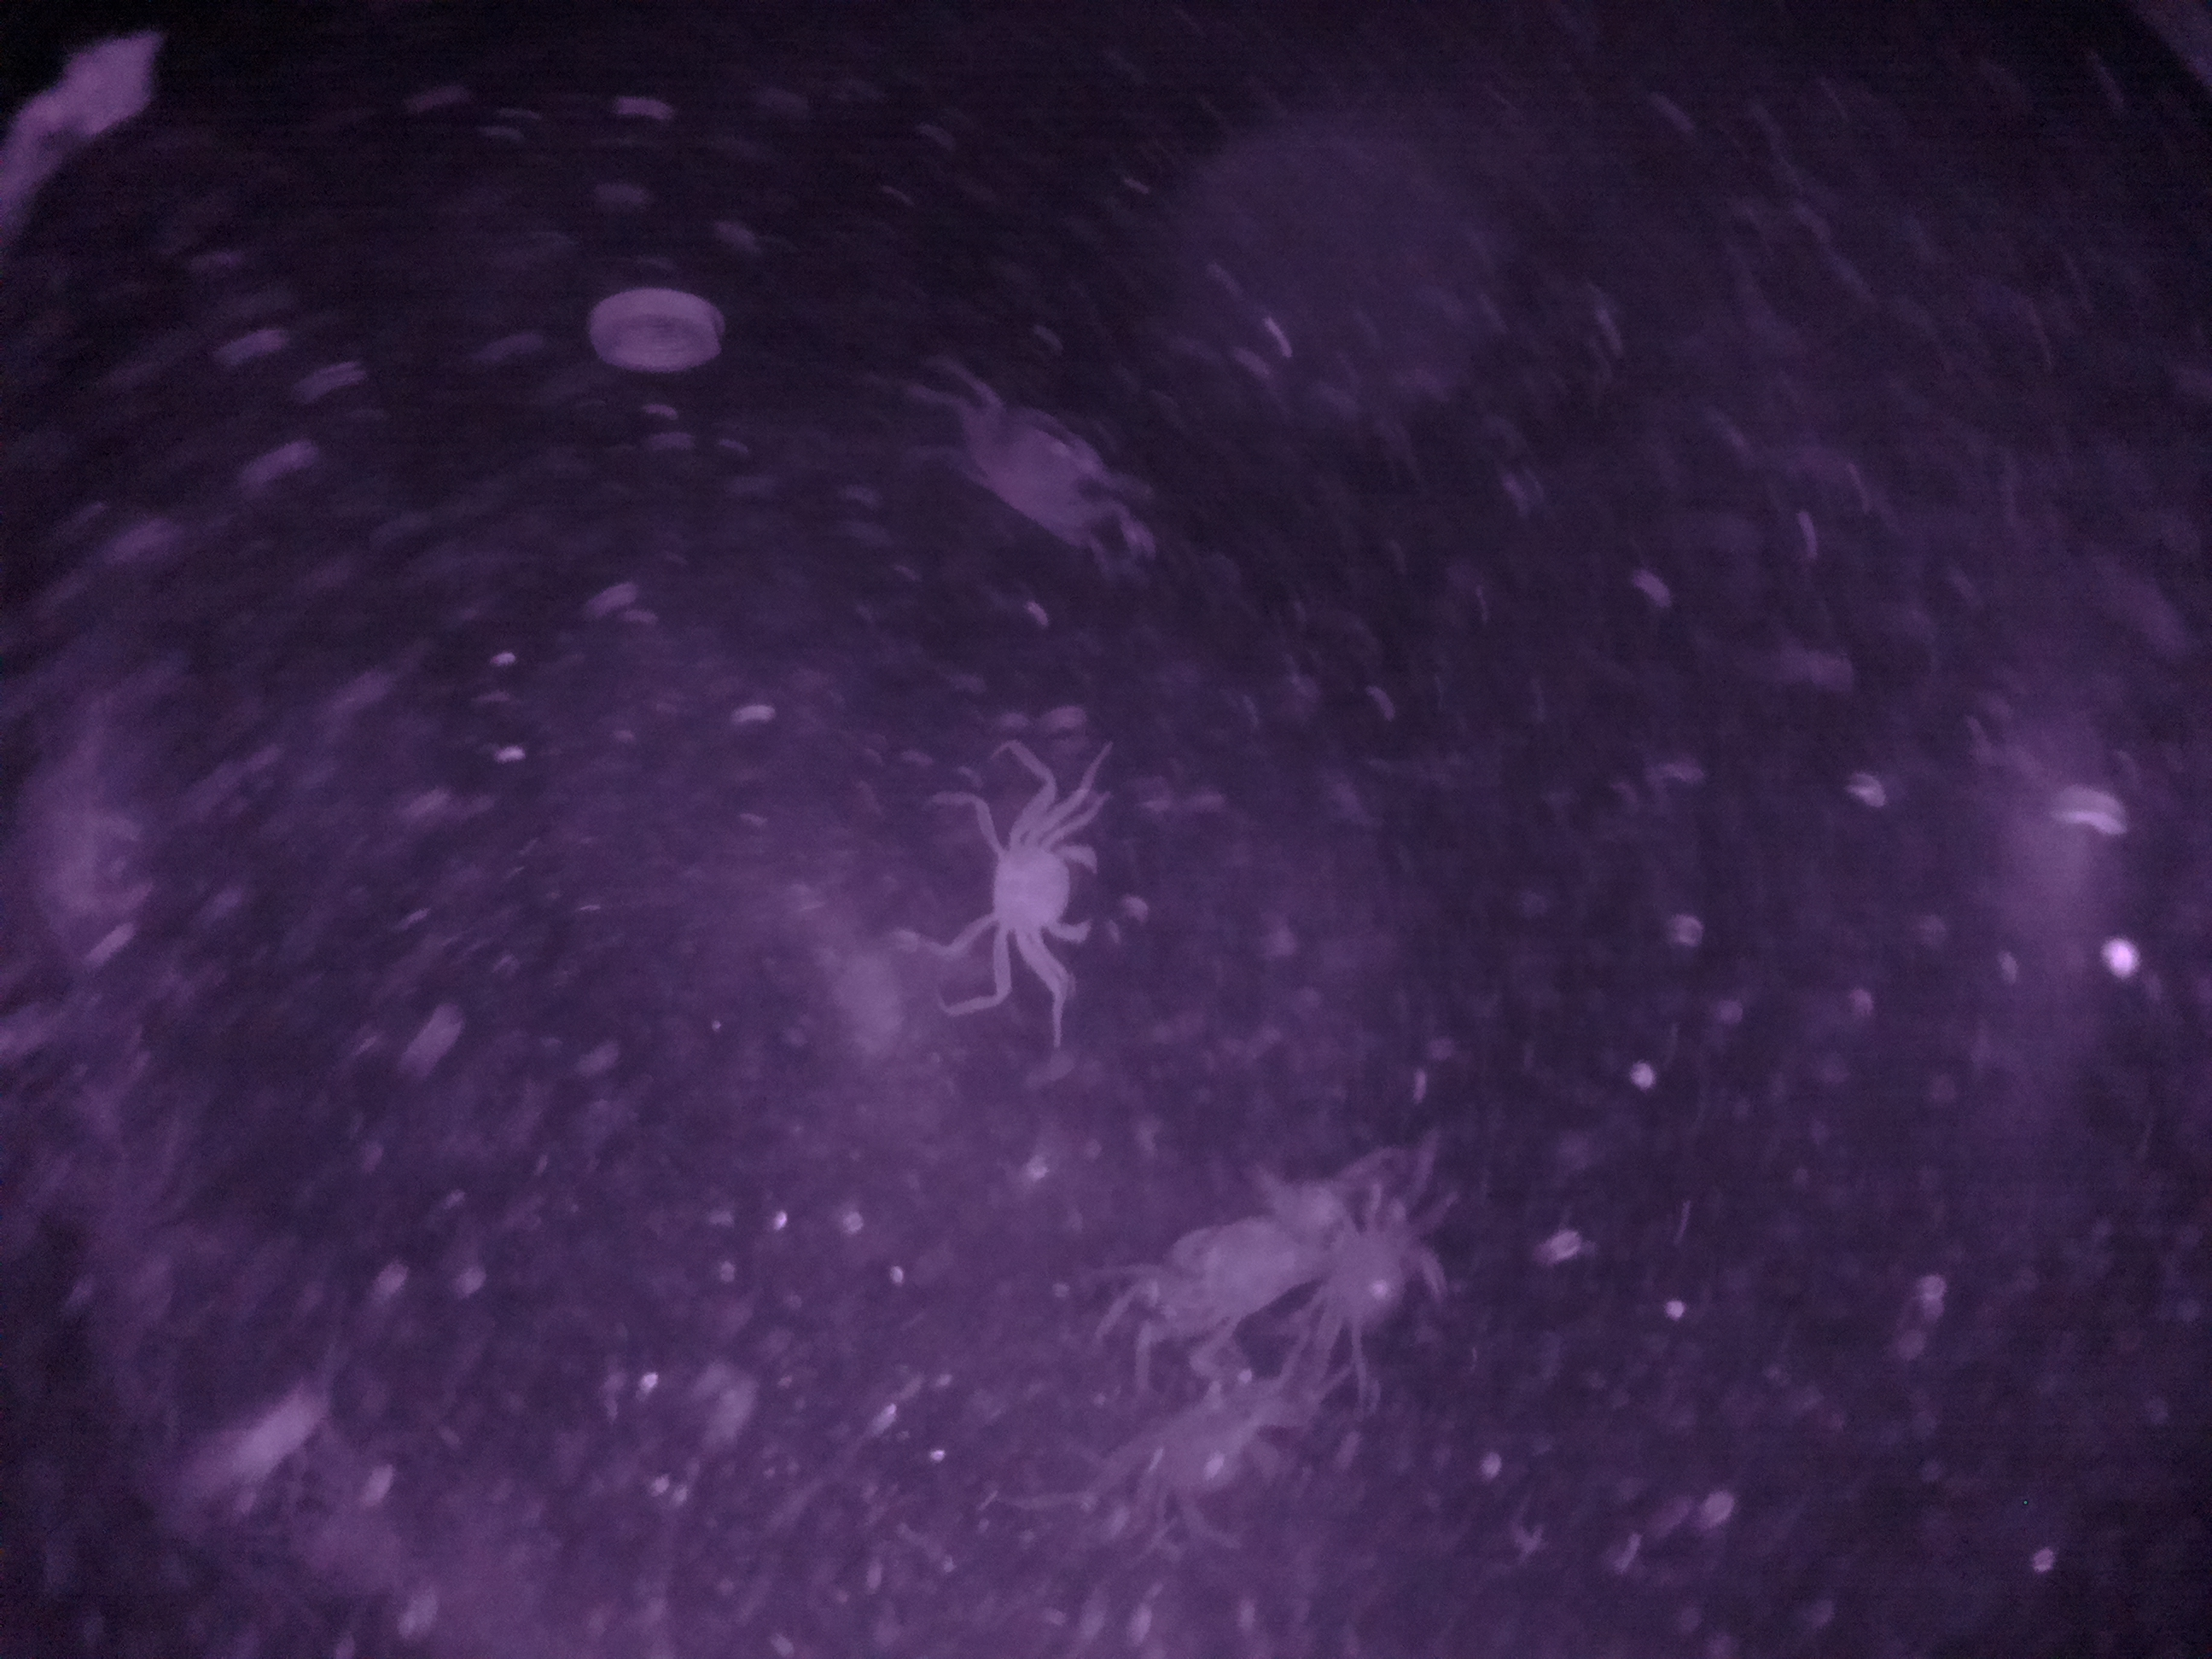Crab: (928, 777, 1148, 988), (949, 371, 1148, 586)
